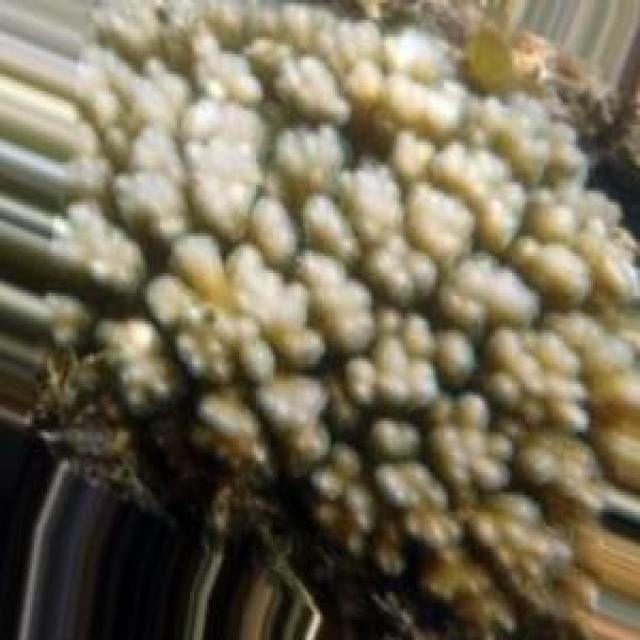Bleached: (46, 1, 639, 578)
